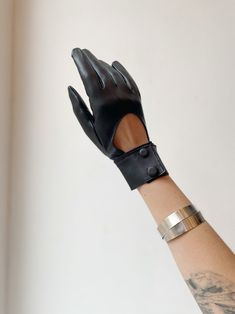gloves: (66, 48, 167, 178)
